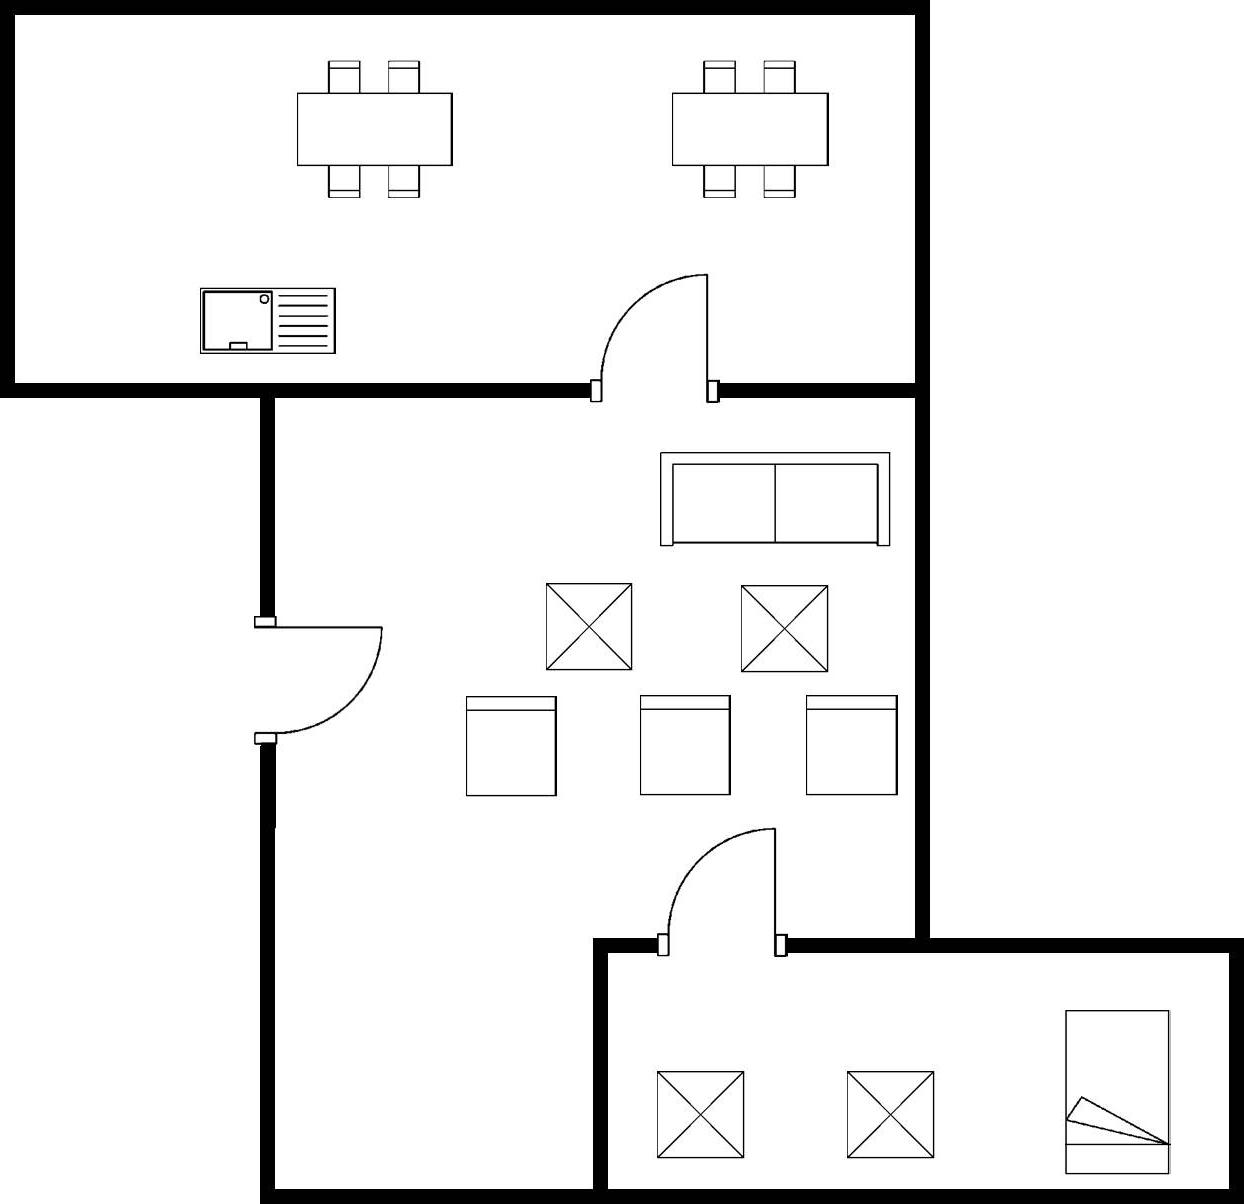bed: (1057, 1001, 1176, 1180)
dining_table: (284, 51, 464, 204), (659, 52, 836, 204)
sink: (191, 280, 344, 357)
sofa: (654, 440, 899, 556)
